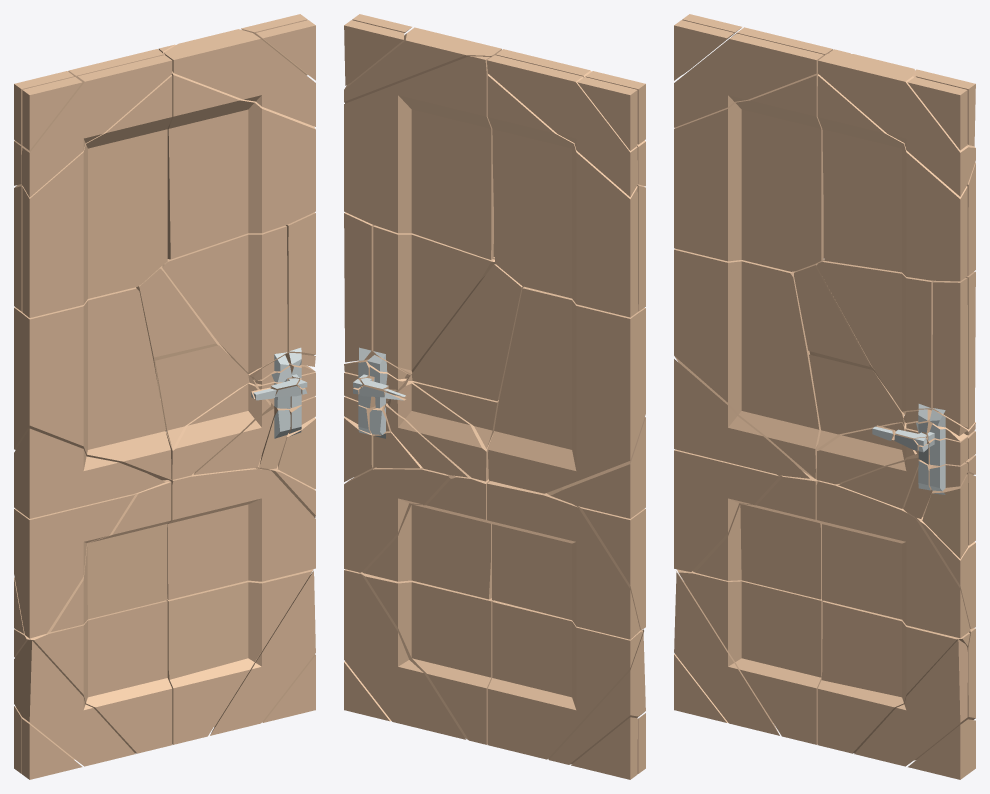
Rendered from distroyed_door.glb.
The picture shows the model from 3 angles, left to right: view 1: azimuth 30°, elevation 25°; view 2: azimuth 150°, elevation 25°; view 3: azimuth 330°, elevation 25°; orthographic projection.
Parts seen in each view (by area): view 1: door_cell.065, door_cell.049, door_cell.038, door_cell.047, door_cell.006, door_cell.036, door_cell.057, door_cell.015, door_cell.031, door_cell.027, door_cell.044, door_cell.002 (+21 smaller); view 2: door_cell.049, door_cell.033, door_cell.013, door_cell.036, door_cell.015, door_cell.006, door_cell.039, door_cell.047, door_cell.011, door_cell.069, door_cell.030, door_cell.029 (+18 smaller); view 3: door_cell.065, door_cell.049, door_cell.038, door_cell.047, door_cell.036, door_cell.006, door_cell.057, door_cell.015, door_cell.027, door_cell.044, door_cell.031, door_cell.026 (+24 smaller).
Boxes of the visible parts, x1,y1,x2,y2 form: door_cell.065: (22,74,172,317); door_cell.049: (14,287,171,480); door_cell.038: (167,71,315,259); door_cell.047: (167,468,315,599); door_cell.006: (166,569,313,744); door_cell.036: (14,600,172,753); door_cell.057: (162,225,287,374); door_cell.015: (14,480,171,633); door_cell.031: (14,494,134,638); door_cell.027: (164,29,315,126); door_cell.044: (22,55,172,197); door_cell.002: (14,428,165,518); door_cell.049: (488,286,645,493); door_cell.033: (344,56,493,259); door_cell.013: (487,74,637,317); door_cell.036: (487,600,642,759); door_cell.015: (487,481,640,639); door_cell.006: (359,572,493,744); door_cell.039: (373,225,495,373); door_cell.047: (362,472,491,599); door_cell.011: (344,569,465,739); door_cell.069: (407,264,523,401); door_cell.030: (487,55,637,196); door_cell.029: (344,467,448,572); door_cell.065: (674,72,823,271); door_cell.049: (674,248,820,478); door_cell.038: (817,74,967,281); door_cell.047: (816,480,970,638); door_cell.036: (677,569,823,744); door_cell.006: (817,600,969,753); door_cell.057: (816,260,938,413); door_cell.015: (692,471,821,599); door_cell.027: (818,53,975,196); door_cell.044: (674,33,824,127); door_cell.031: (674,449,779,571); door_cell.026: (854,639,967,766).
Bounding box in the file's own units: 0.4293 × 0.9812 × 0.1134.
